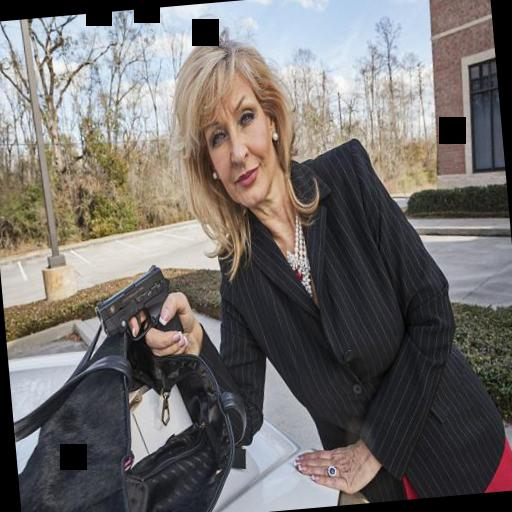Handgun: (89, 257, 184, 343)
